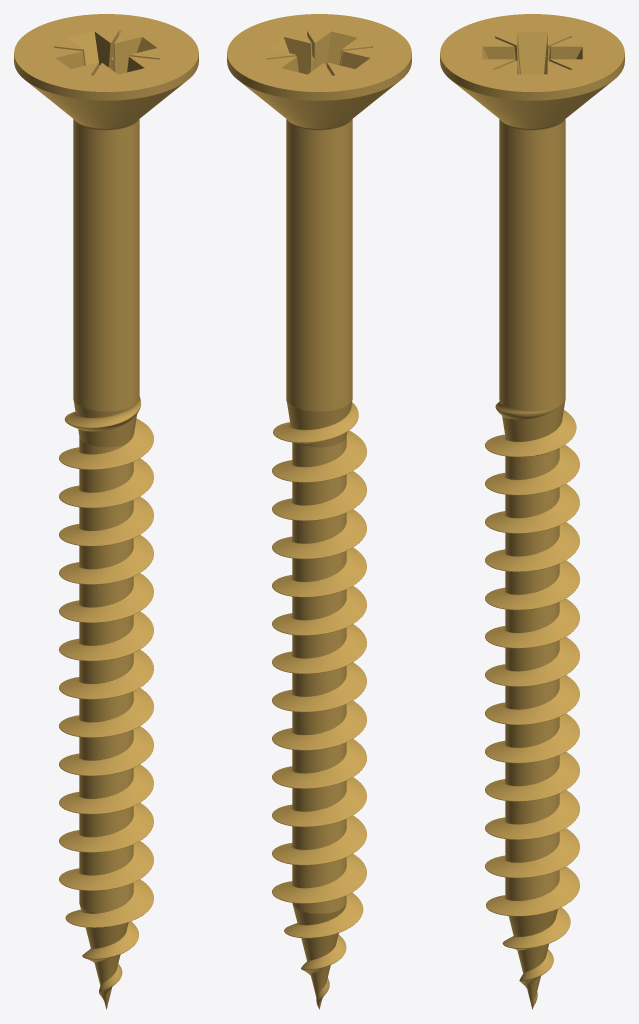
The model's file is model_full.glb.
3 renders of one model, left to right at view 1: azimuth 30°, elevation 25°; view 2: azimuth 150°, elevation 25°; view 3: azimuth 270°, elevation 25°, orthographic.
Parts seen in each view (by area): view 1: geometry_0; view 2: geometry_0; view 3: geometry_0.
Boxes of the visible parts, bbox=[...] form: geometry_0: bbox=[14, 14, 198, 1009]; geometry_0: bbox=[227, 14, 411, 1009]; geometry_0: bbox=[440, 14, 624, 1009].
Size of the model in its own units: 0.00875 by 0.05 by 0.00875.
